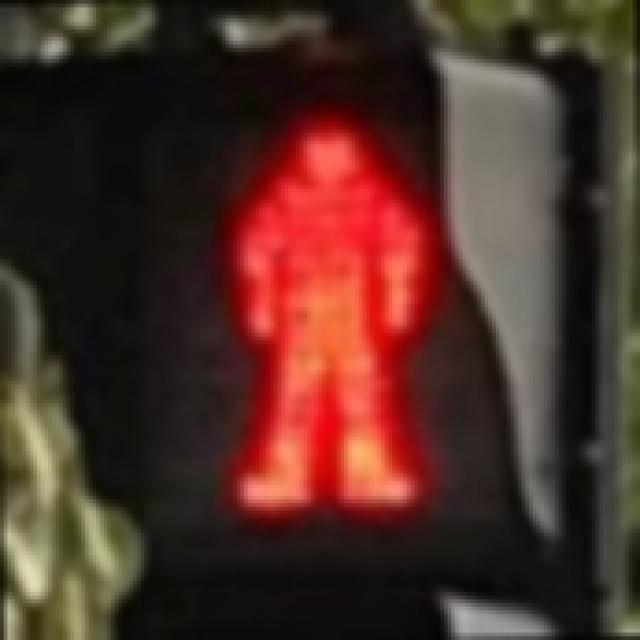red-crossing: (200, 98, 433, 527)
